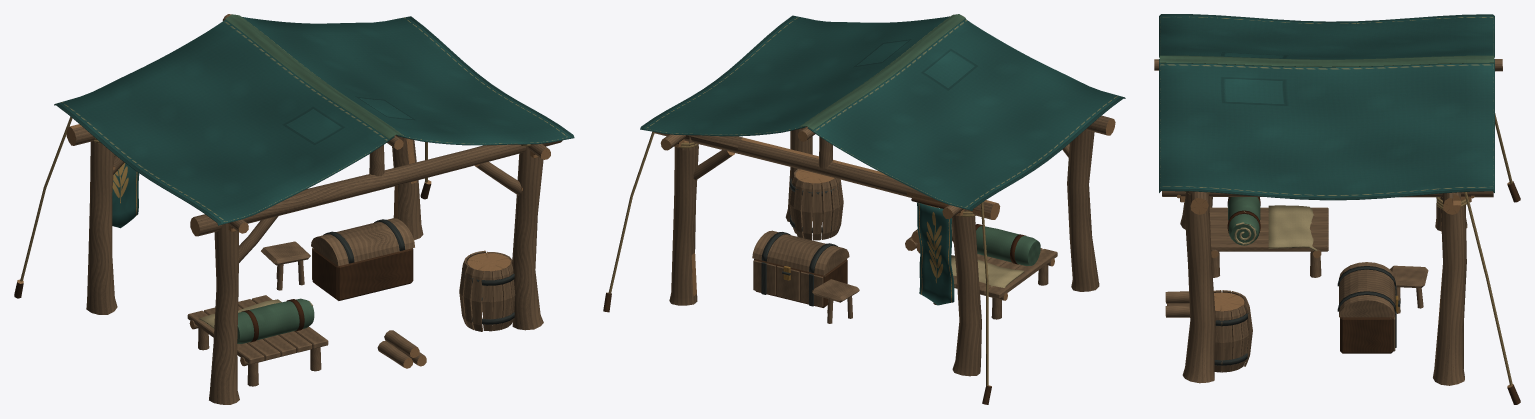
File: camp-standard-r5.glb
3 renders of one model, left to right at view 1: azimuth 30°, elevation 25°; view 2: azimuth 150°, elevation 25°; view 3: azimuth 270°, elevation 25°, orthographic. The views are drawn at different scales.
Parts seen in each view (by area): view 1: campShelter_authored_mesh; view 2: campShelter_authored_mesh; view 3: campShelter_authored_mesh.
Boxes of the visible parts, bbox=[...] form: campShelter_authored_mesh: bbox=[14, 14, 574, 404]; campShelter_authored_mesh: bbox=[603, 14, 1125, 404]; campShelter_authored_mesh: bbox=[1154, 14, 1520, 404].
Size of the model in its own units: 6.36 by 3.55 by 4.78.
1 material, 1 textured.
